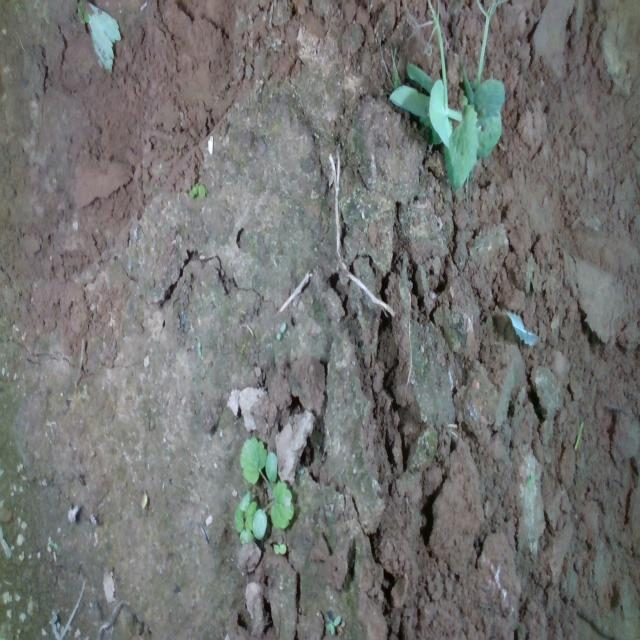weed: (185, 172, 213, 204), (270, 324, 286, 339), (308, 127, 324, 141)
